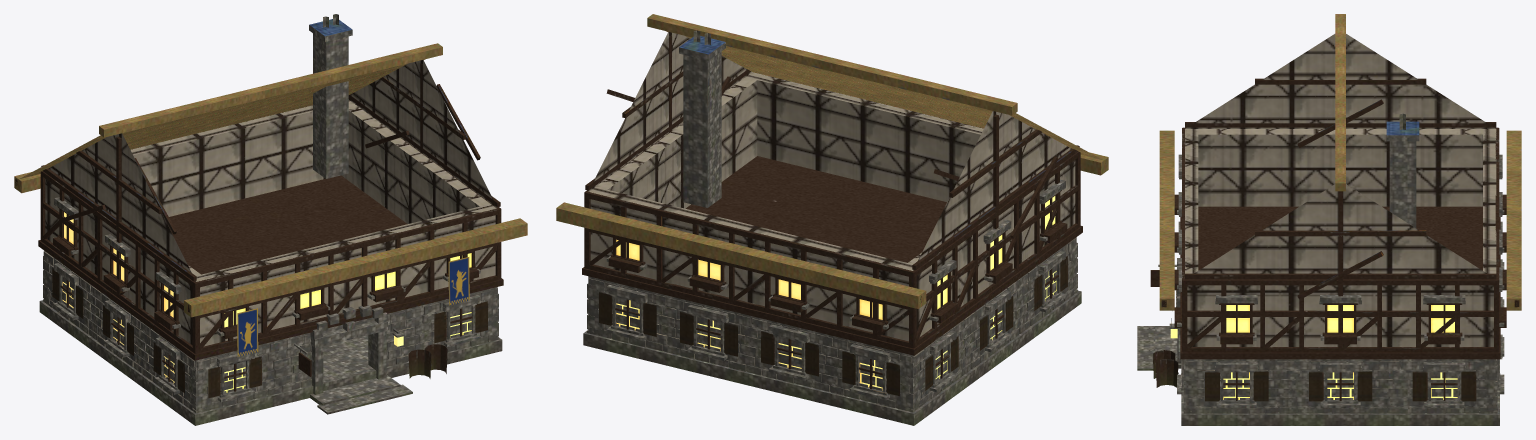
The model's file is bld_bakery_card.glb.
3 views of the same model, side by side, from view 1: azimuth 30°, elevation 25°; view 2: azimuth 150°, elevation 25°; view 3: azimuth 270°, elevation 25° (orthographic). The views are drawn at different scales.
Parts seen in each view (by area): view 1: bakery_card; view 2: bakery_card; view 3: bakery_card.
Boxes of the visible parts, bbox=[...] form: bakery_card: bbox=[14, 14, 527, 425]; bakery_card: bbox=[556, 14, 1108, 425]; bakery_card: bbox=[1137, 14, 1521, 425].
Bounding box in the file's own units: 25.56 × 17.5 × 22.02.
1 material, 1 textured.
